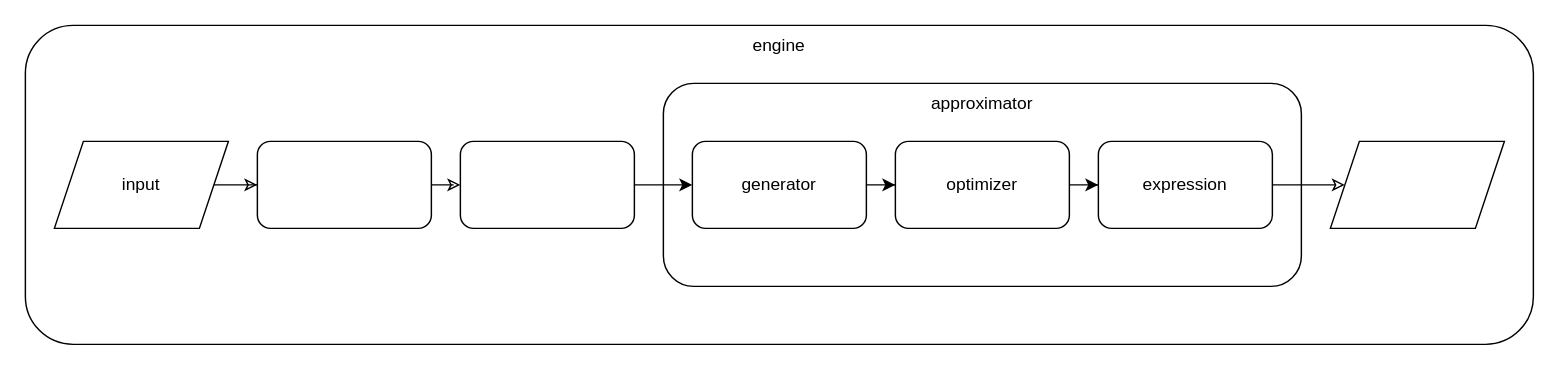
Some shapes in this 1559 by 370 pixel diagram are drawn without their labels. The shapes that lost their labels are listed below. From the top down, each one's centre as x and y in pixels, then its label:
(343,184): parser
(546,184): interpolator
(1416,184): output
